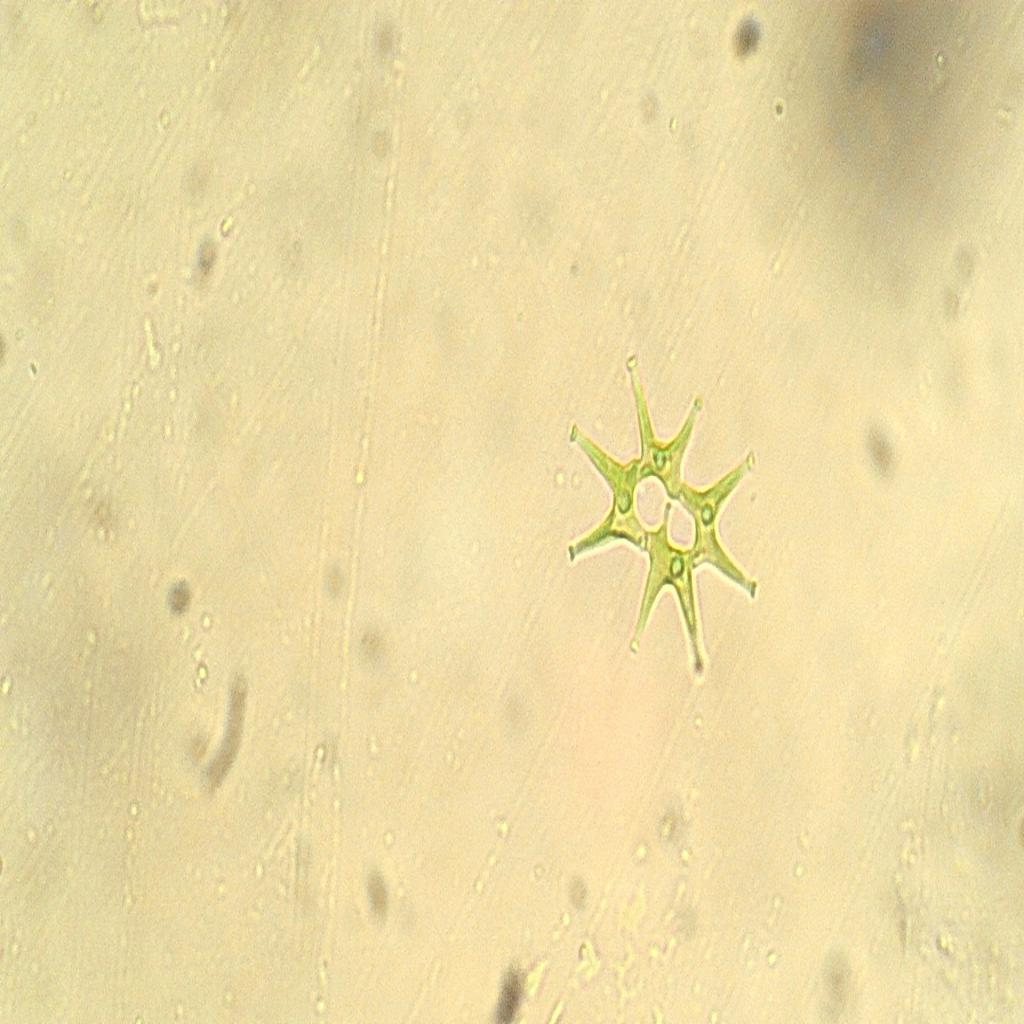Pediastrum_75FO: (537, 295, 779, 716)
